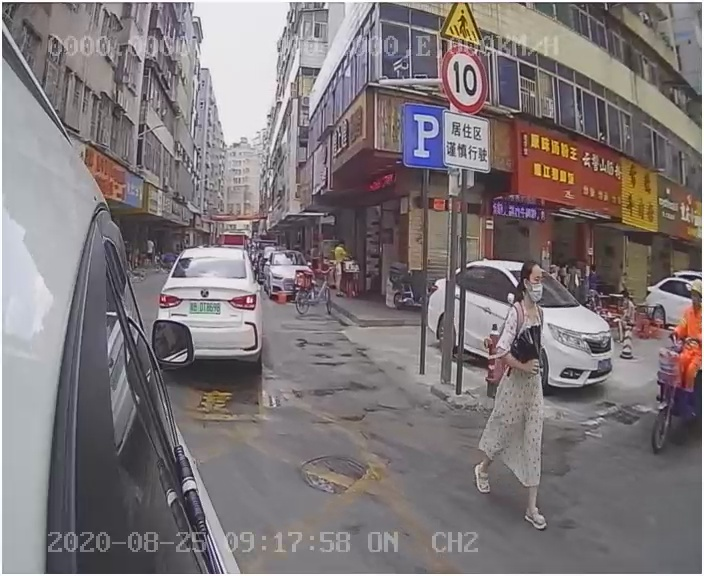person: (466, 263, 568, 532)
